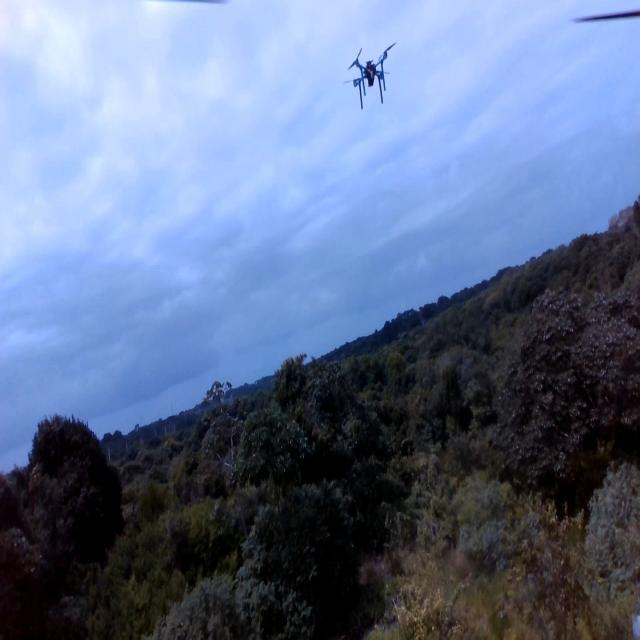-uav-: (339, 35, 402, 115)
